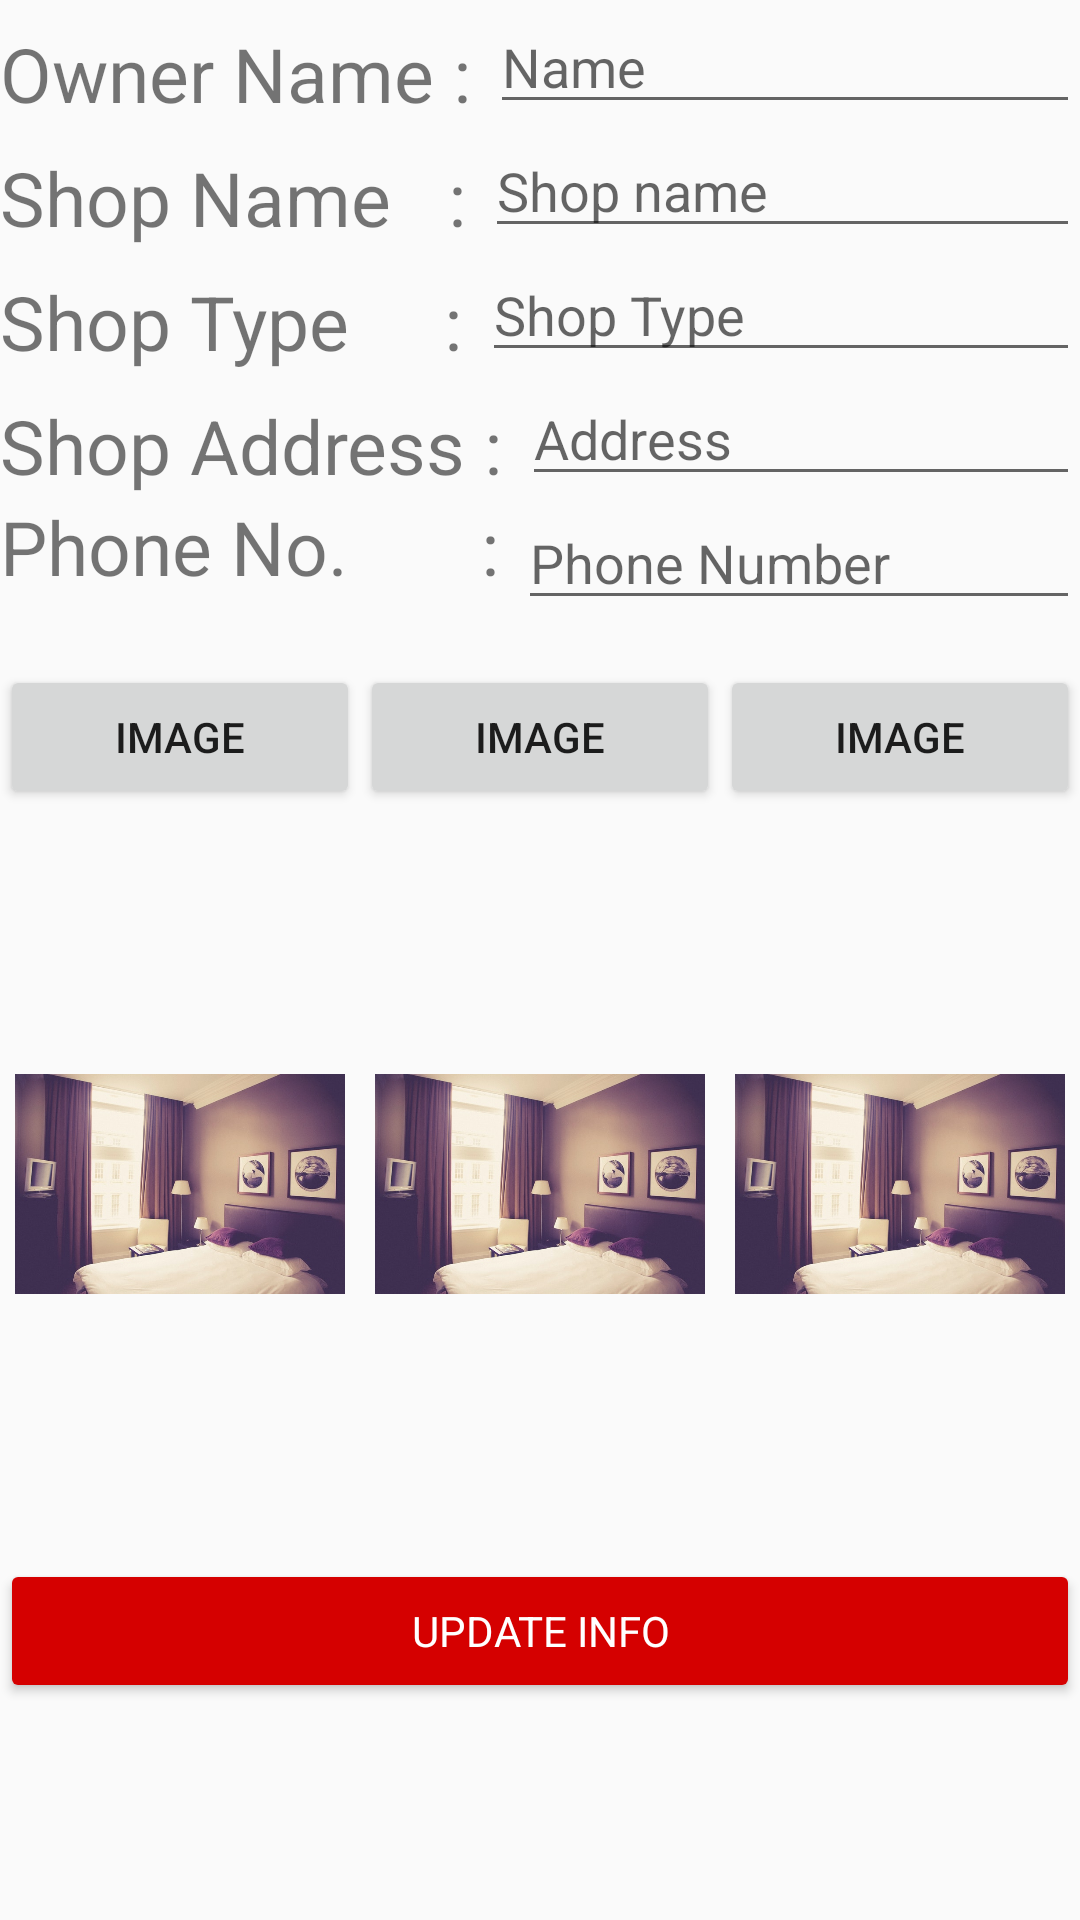

Point at icon controls on the screen. Image size 1080 × 1920, points as [x,y].
hotel: [180,1184], [540,1184], [900,1184]
